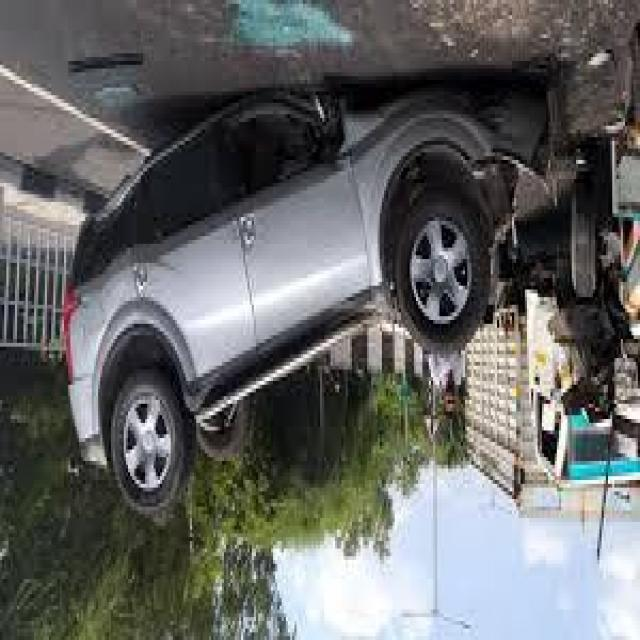severe: (58, 78, 556, 520)
